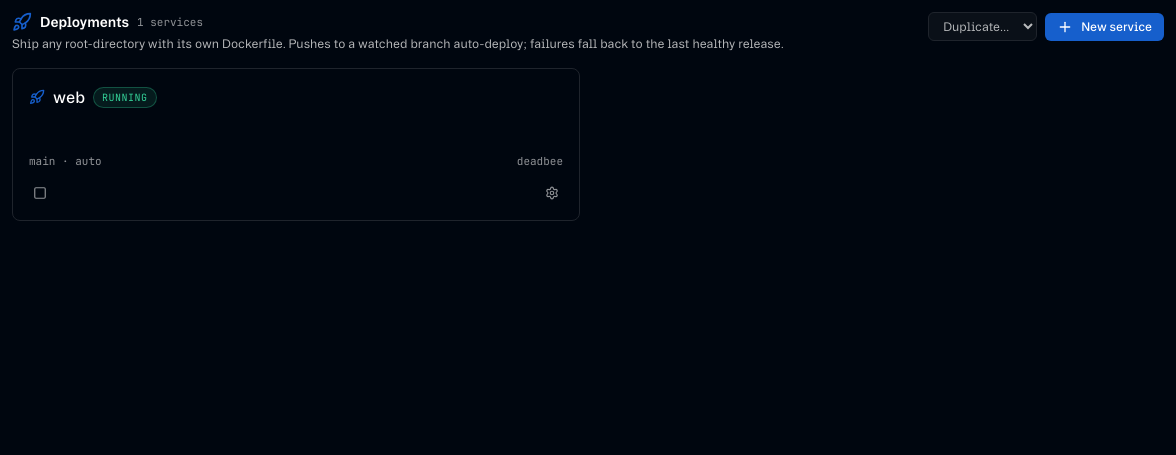
Scenario: DeploymentsPage › lists services with live status and opens detail on click
Expected: the element with test id "service-card-web" shows "deadbee", [517,154,563,168]
Opening detail surfaces live metrics without failure noise
What coordinates should you click on to do the following:
click the element with test id "service-card-web"
I would click on:
 (296, 144)
Its box is [12,68,580,220].
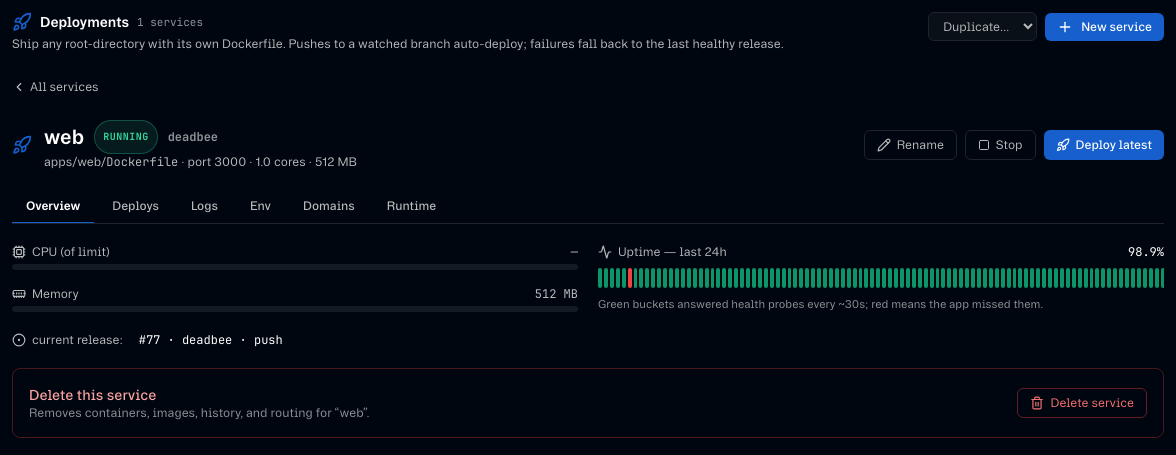
Expected: the text "CPU (of limit)" is shown, [12,244,110,260]
